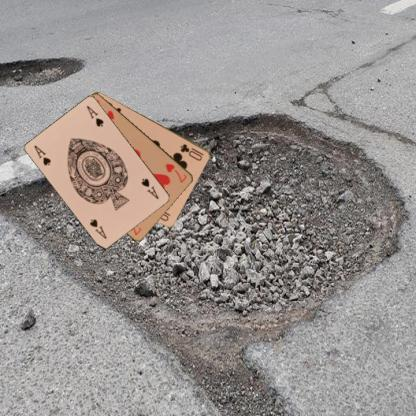10c: (178, 141, 205, 162)
7h: (163, 161, 188, 184)
As: (139, 176, 160, 200), (32, 143, 52, 167)
